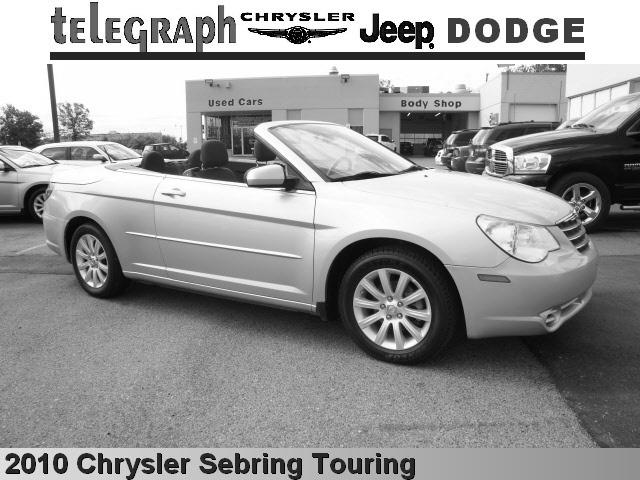car: (43, 120, 599, 366)
